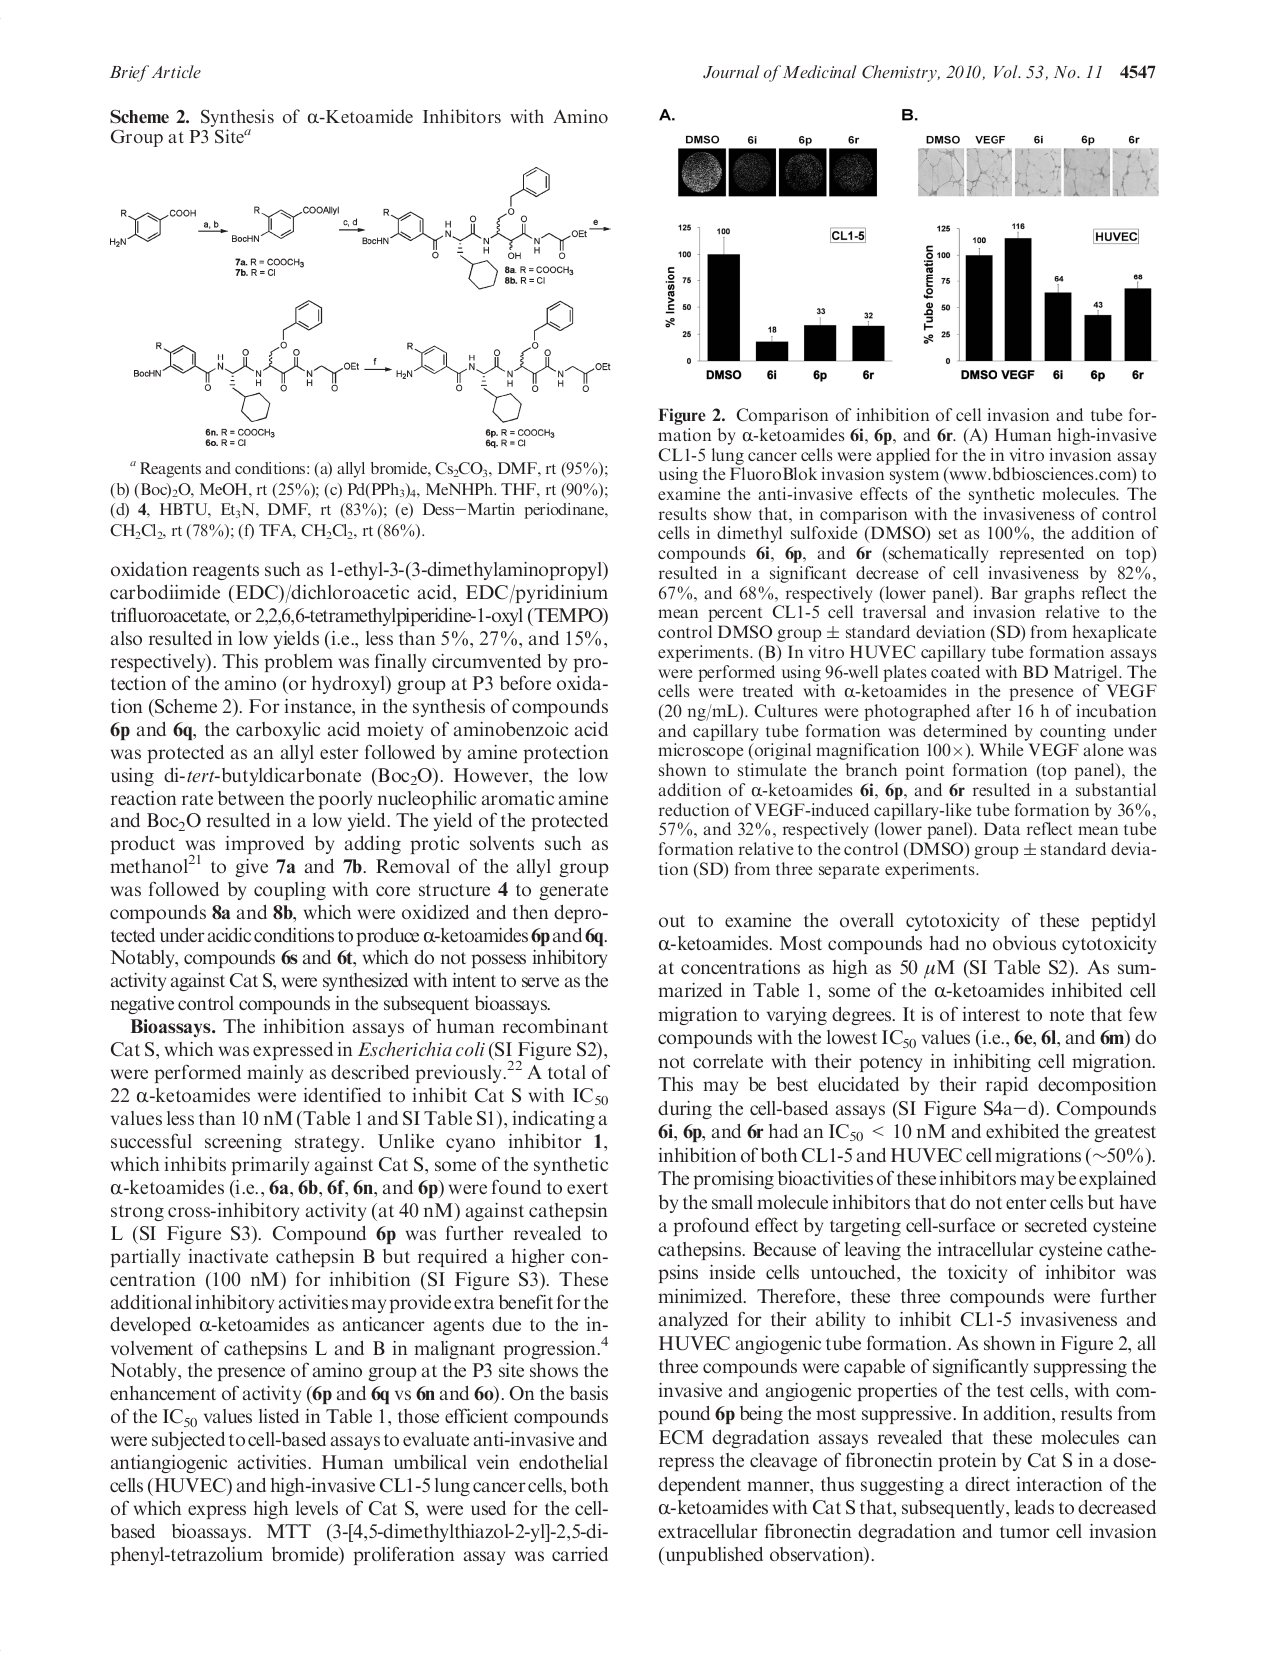exist_molecular: (129, 290, 364, 426), (360, 166, 590, 294), (394, 297, 614, 427), (227, 199, 344, 247), (102, 202, 199, 249)
